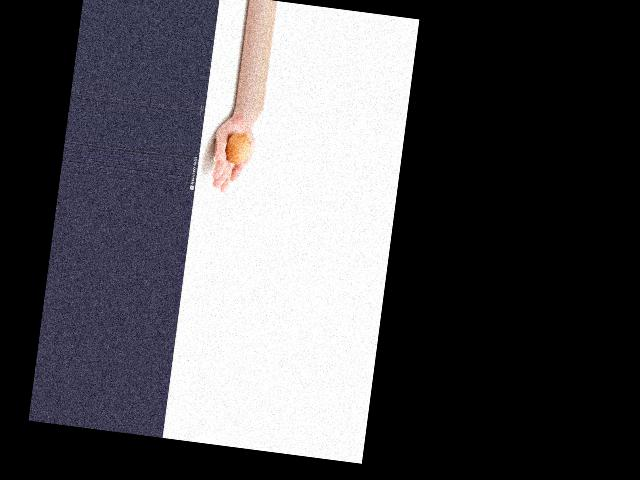egg: (224, 130, 252, 165)
